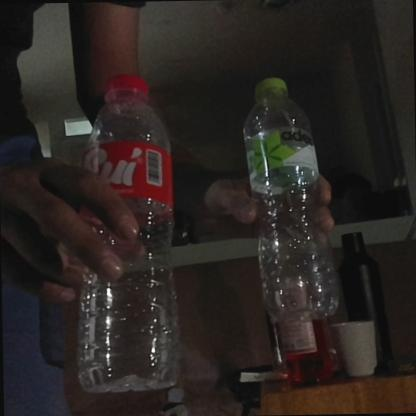plastic_bottles: (68, 74, 180, 393), (244, 76, 344, 322)
